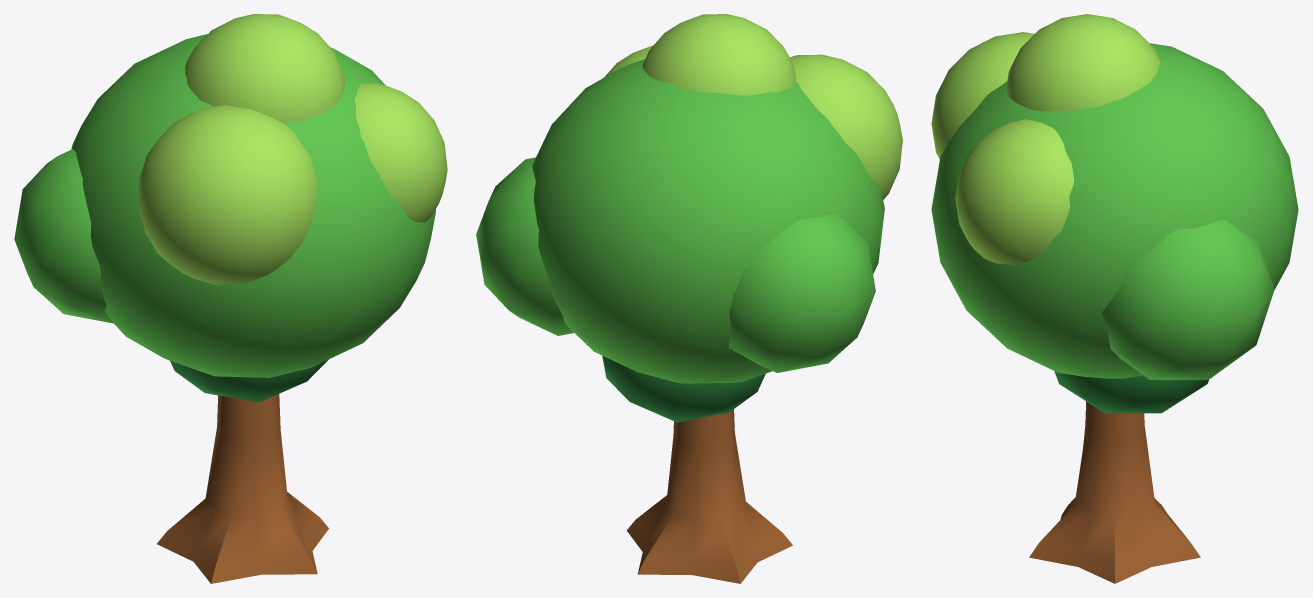
File: tree_round.glb
3 views of the same model, side by side, from view 1: azimuth 30°, elevation 25°; view 2: azimuth 150°, elevation 25°; view 3: azimuth 270°, elevation 25° (orthographic). The views are drawn at different scales.
Visible parts, largest first — view 1: tree_round; view 2: tree_round; view 3: tree_round.
Boxes of the visible parts, x1=… form: tree_round: x1=14, y1=14, x2=447, y2=583; tree_round: x1=476, y1=14, x2=902, y2=583; tree_round: x1=931, y1=14, x2=1298, y2=583.
Size of the model in its own units: 2.33 by 3.15 by 2.
